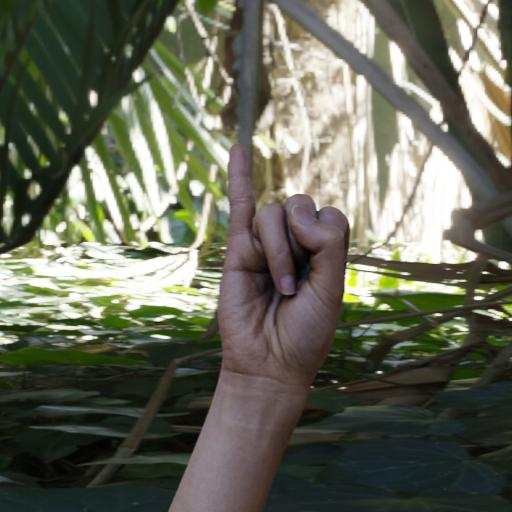I: (205, 135, 356, 399)
